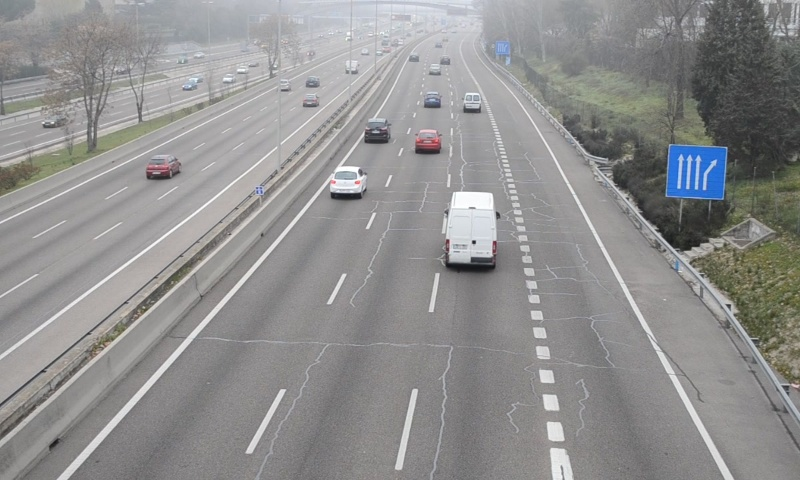car: (328, 166, 366, 194), (364, 117, 391, 144), (415, 129, 442, 154), (423, 91, 442, 109)
van: (446, 193, 498, 269), (462, 92, 482, 114)
